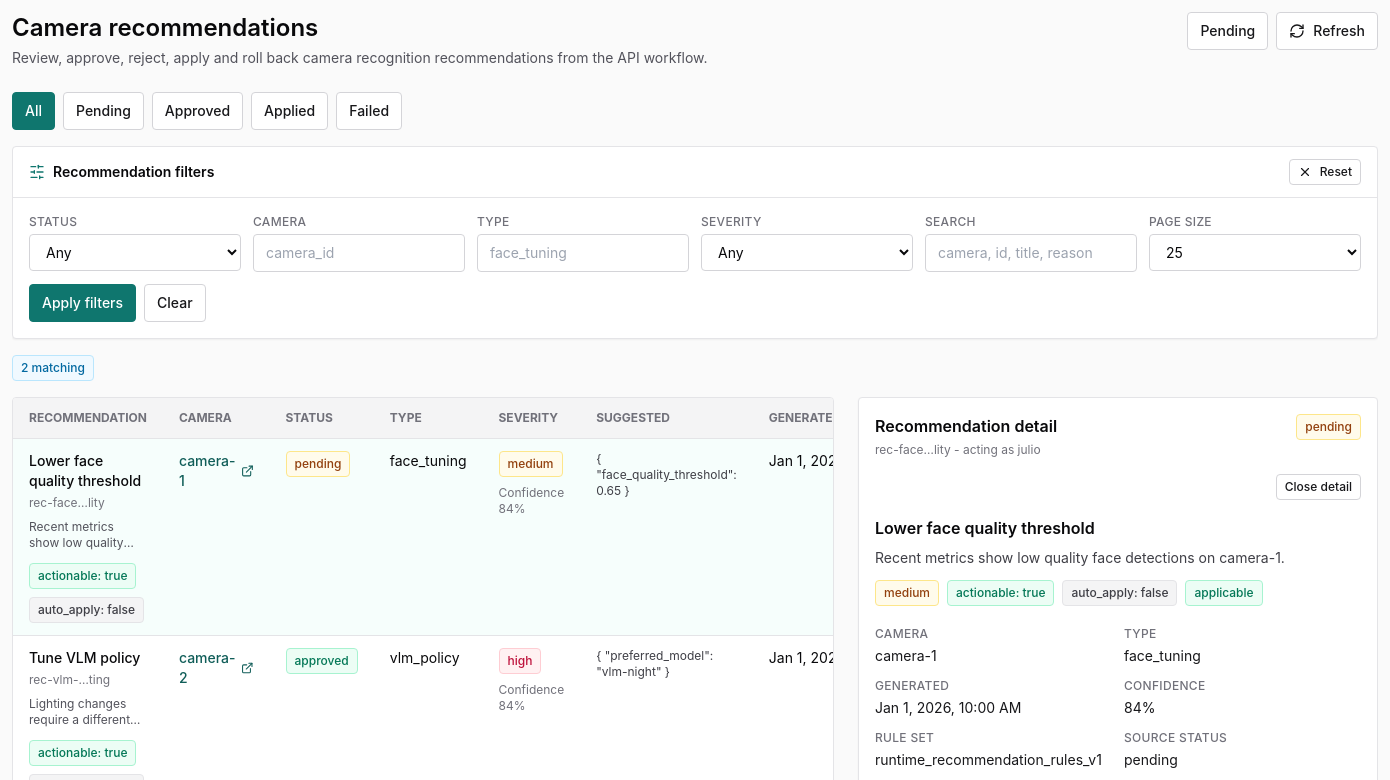
CameraRecommendationsPage › renders the list, filters results, opens detail and shows patch preview
expect the text "Lower face quality threshold" is shown: met, box [29,451,147,491]
expect the 1st text "Recent metrics show low quality face detections on camera-1." is shown: met, box [29,519,147,551]
Type "vlm_policy" into the field labelled "Type" at (583, 253), box [477,234,689,272]
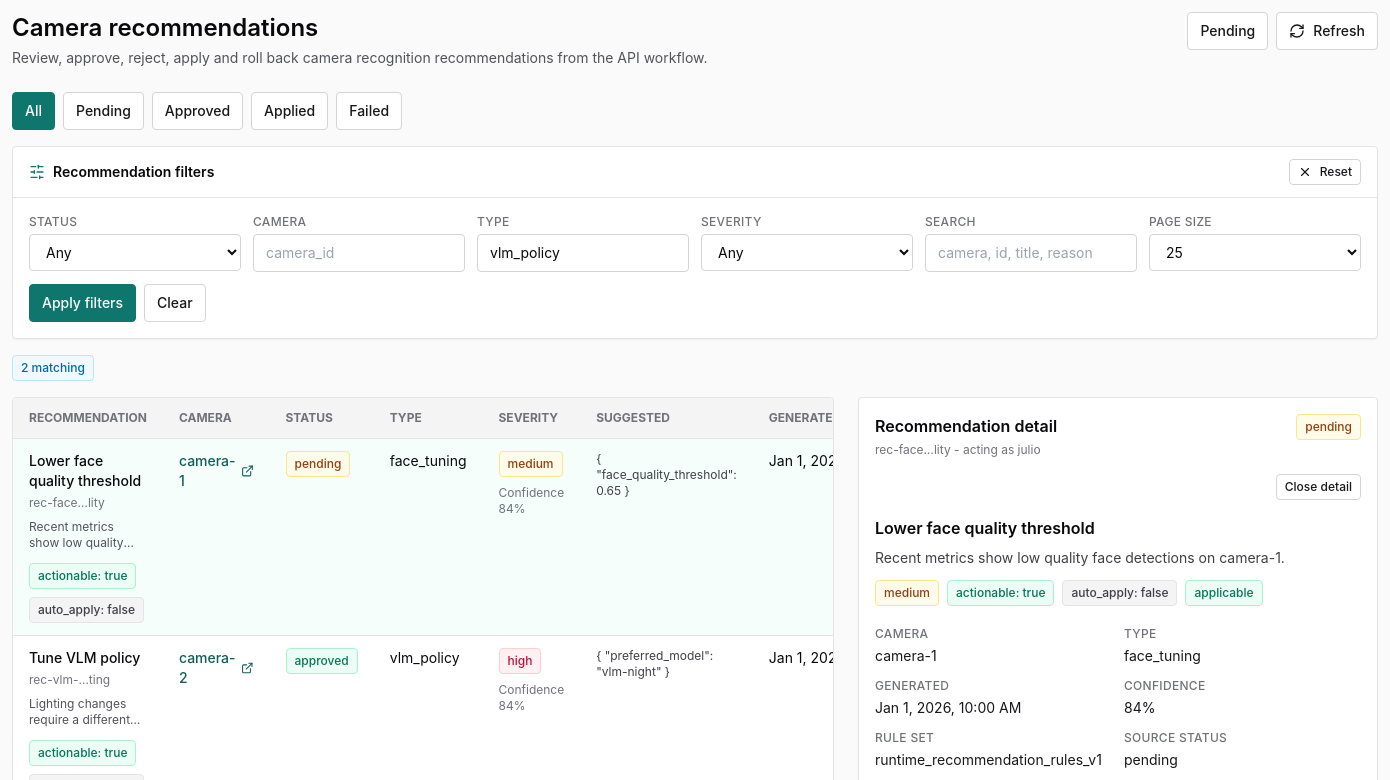
Select "high" in the dropdown labelled "Severity" at (807, 252), box [701,234,913,271]
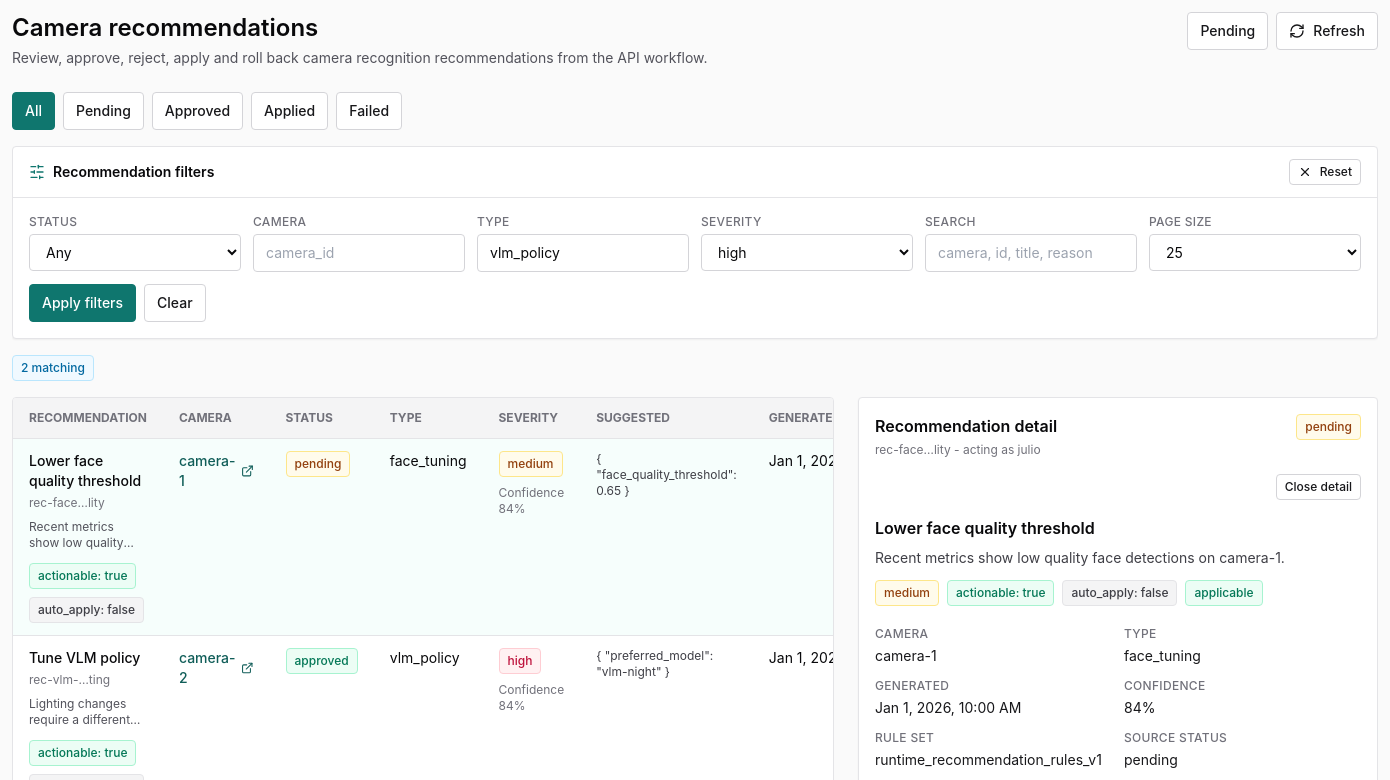
Type "lighting" into the field labelled "Search" at (1031, 253), box [925,234,1137,272]
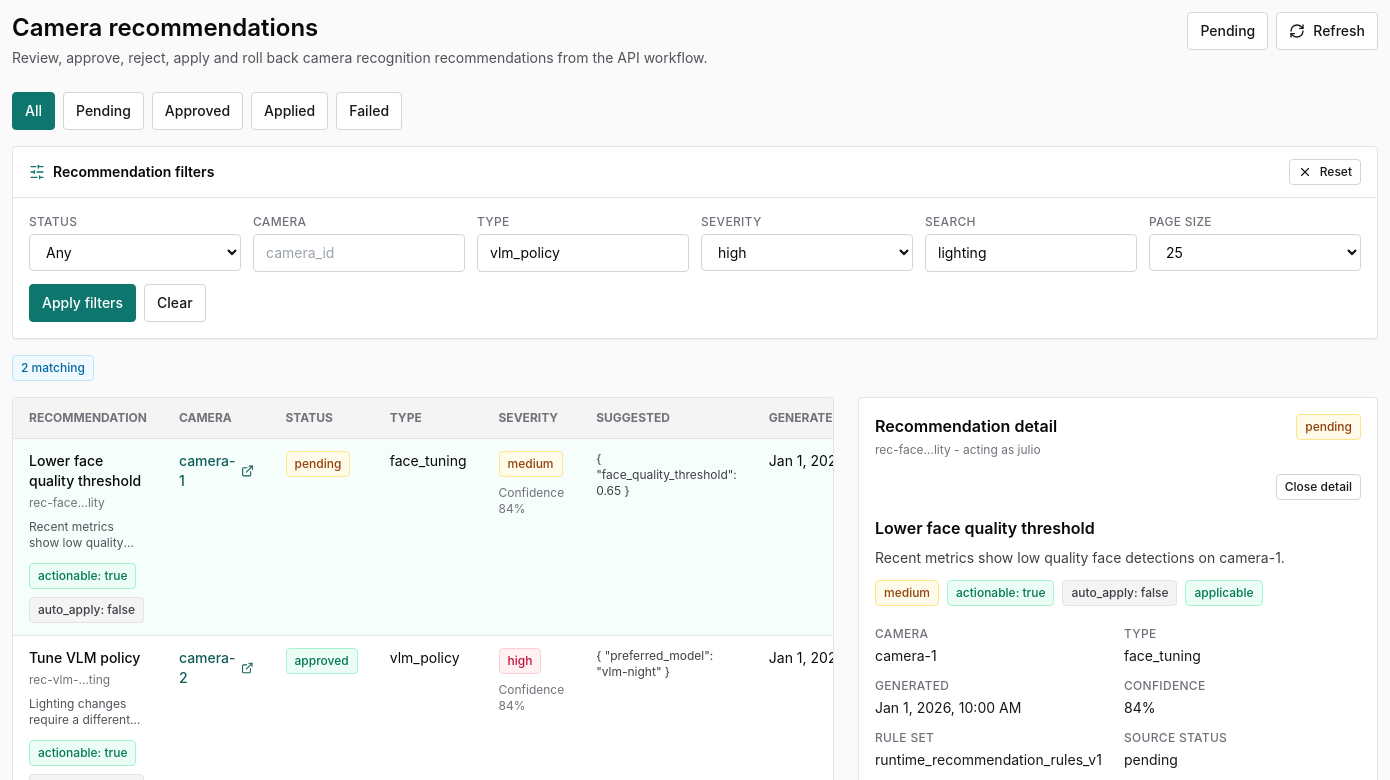
Click the button "Apply filters" at (83, 303), box [29,284,136,322]
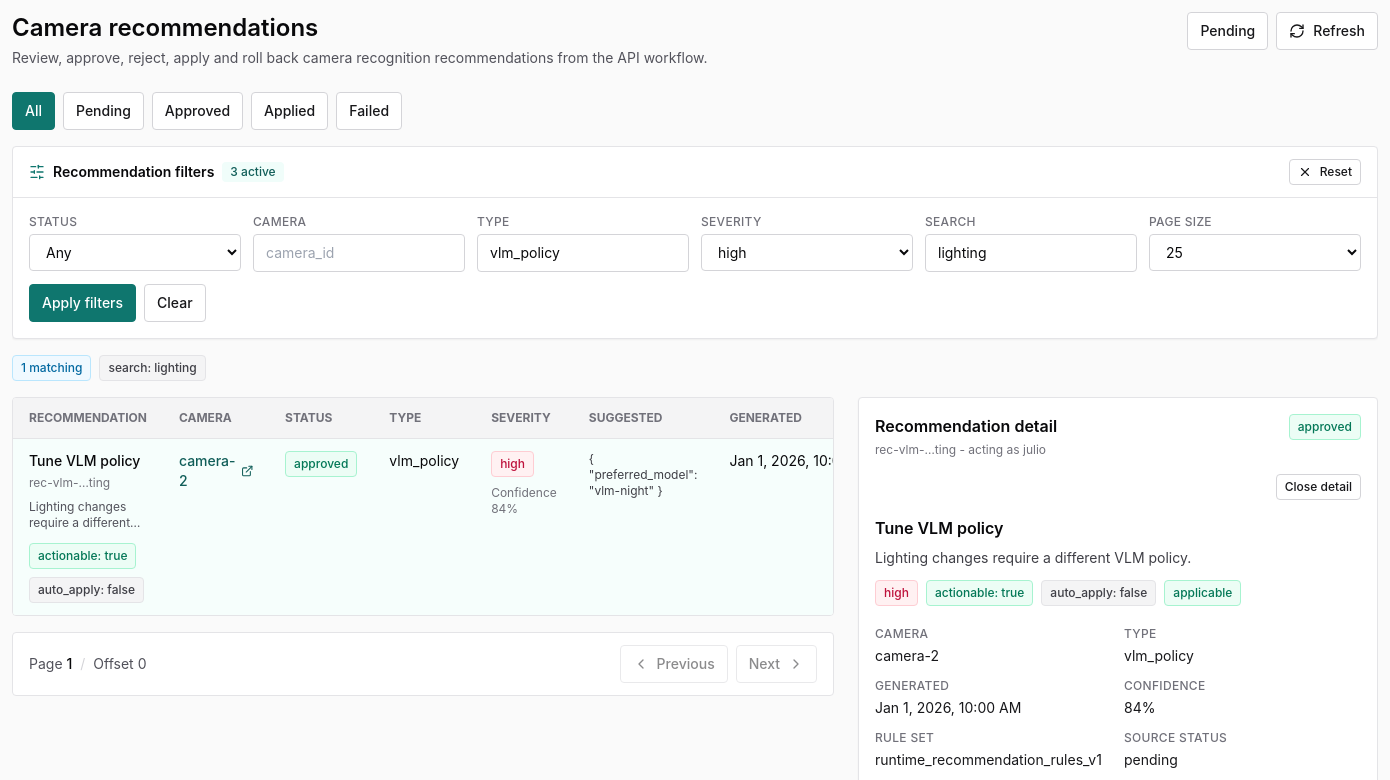
expect the text "Tune VLM policy" is shown: met, box [29,451,147,471]
expect the text "Lower face quality threshold" is not shown: met
